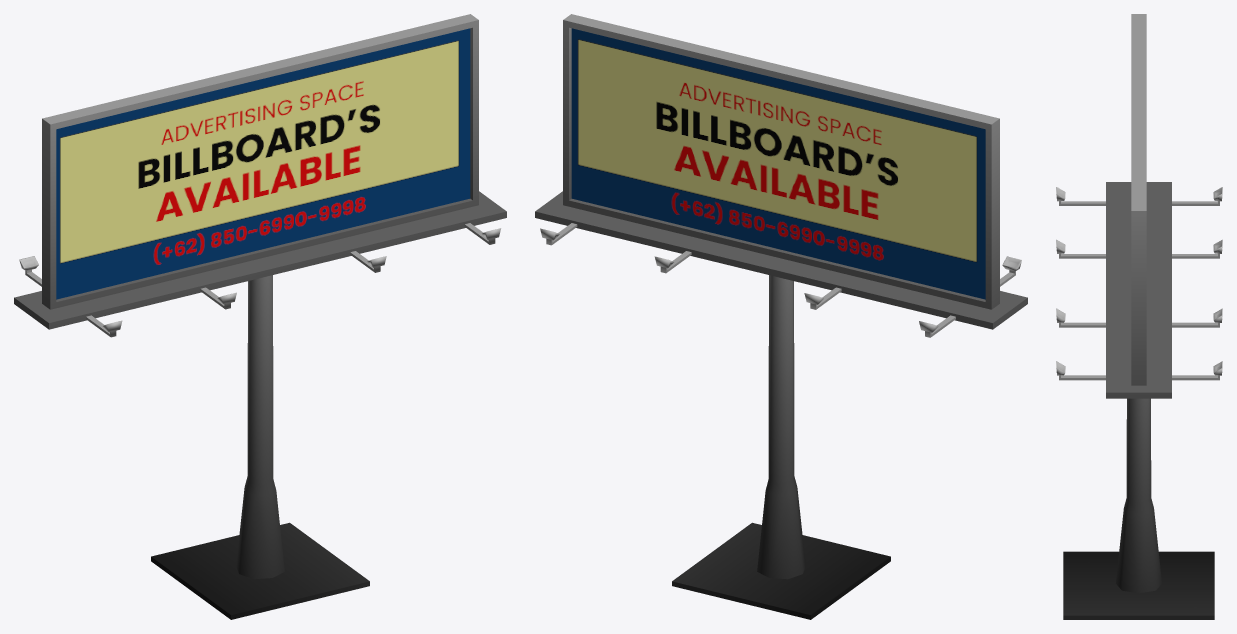
File: VideoTron1.fbx
3 views of the same model, side by side, from view 1: azimuth 30°, elevation 25°; view 2: azimuth 150°, elevation 25°; view 3: azimuth 270°, elevation 25° (orthographic). The views are drawn at different scales.
Parts seen in each view (by area): view 1: ScreenTron_LOD0, Plane_LOD0, Tiang_LOD0, LightTron_LOD0; view 2: ScreenTron_LOD0, Plane_LOD0, Tiang_LOD0, LightTron_LOD0; view 3: ScreenTron_LOD0, Plane_LOD0, Tiang_LOD0, LightTron_LOD0.
Boxes of the visible parts, x1=… form: ScreenTron_LOD0: x1=14, y1=14, x2=506, y2=329; Plane_LOD0: x1=151, y1=522, x2=369, y2=619; Tiang_LOD0: x1=236, y1=275, x2=284, y2=579; LightTron_LOD0: x1=19, y1=223, x2=501, y2=337; ScreenTron_LOD0: x1=535, y1=14, x2=1027, y2=329; Plane_LOD0: x1=672, y1=522, x2=890, y2=619; Tiang_LOD0: x1=757, y1=275, x2=805, y2=579; LightTron_LOD0: x1=540, y1=223, x2=1021, y2=337; ScreenTron_LOD0: x1=1106, y1=14, x2=1171, y2=398; Plane_LOD0: x1=1063, y1=551, x2=1214, y2=619; Tiang_LOD0: x1=1116, y1=398, x2=1161, y2=593; LightTron_LOD0: x1=1056, y1=187, x2=1222, y2=380.
Size of what is drawn, in the model's own units: 1314 by 1384 by 439.
